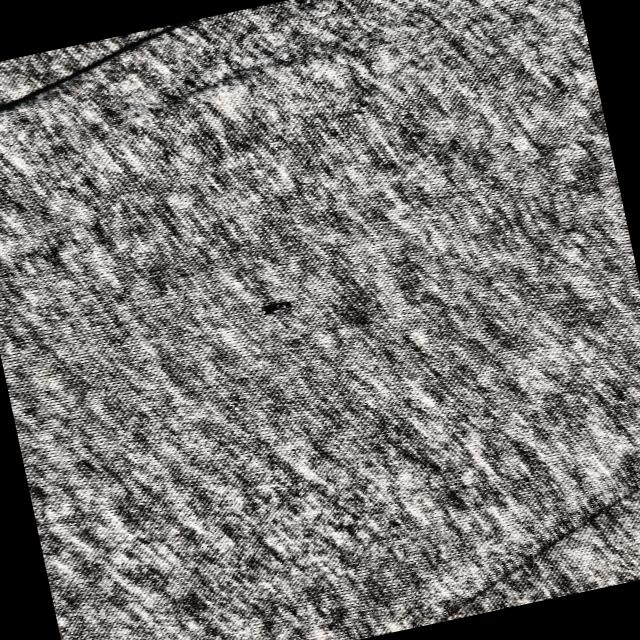cut: (248, 290, 308, 324)
